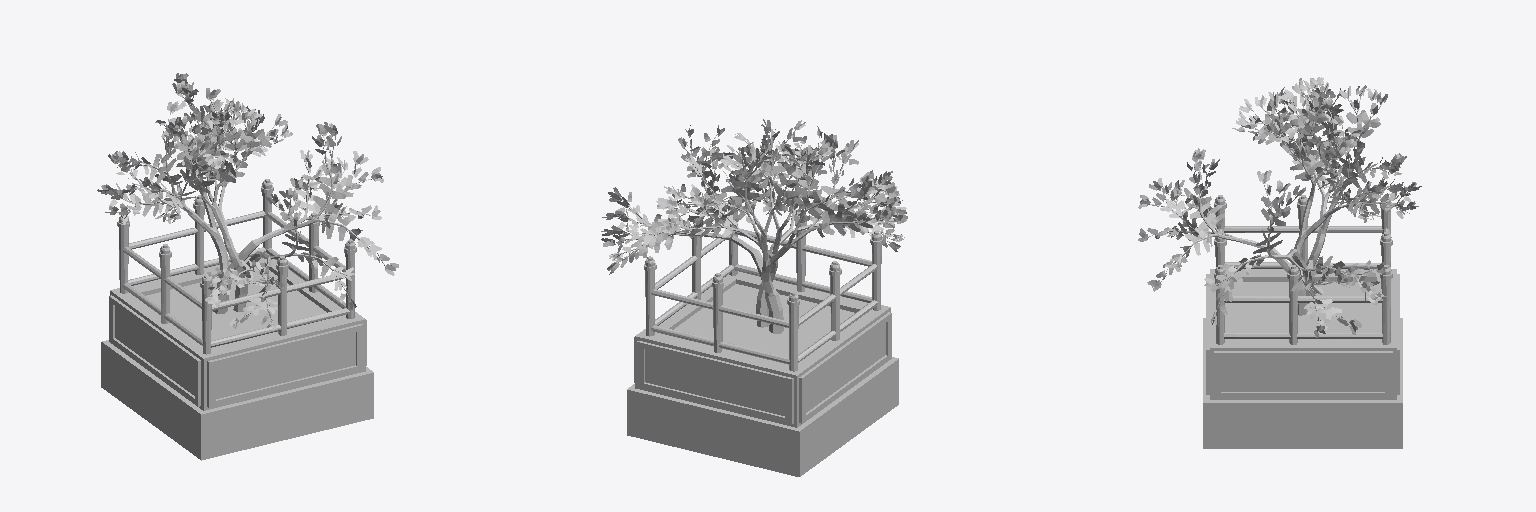
The model's file is decimatedplant0.6.obj.
3 renders of one model, left to right at view 1: azimuth 30°, elevation 25°; view 2: azimuth 150°, elevation 25°; view 3: azimuth 270°, elevation 25°, orthographic.
Visible parts, largest first — view 1: objPlant.003; view 2: objPlant.003; view 3: objPlant.003.
Boxes of the visible parts, x1,y1,x2,y2 form: objPlant.003: [97, 73, 398, 460]; objPlant.003: [601, 119, 907, 476]; objPlant.003: [1138, 77, 1421, 448].
Size of the model in its own units: 0.5649 by 0.5844 by 0.4798.